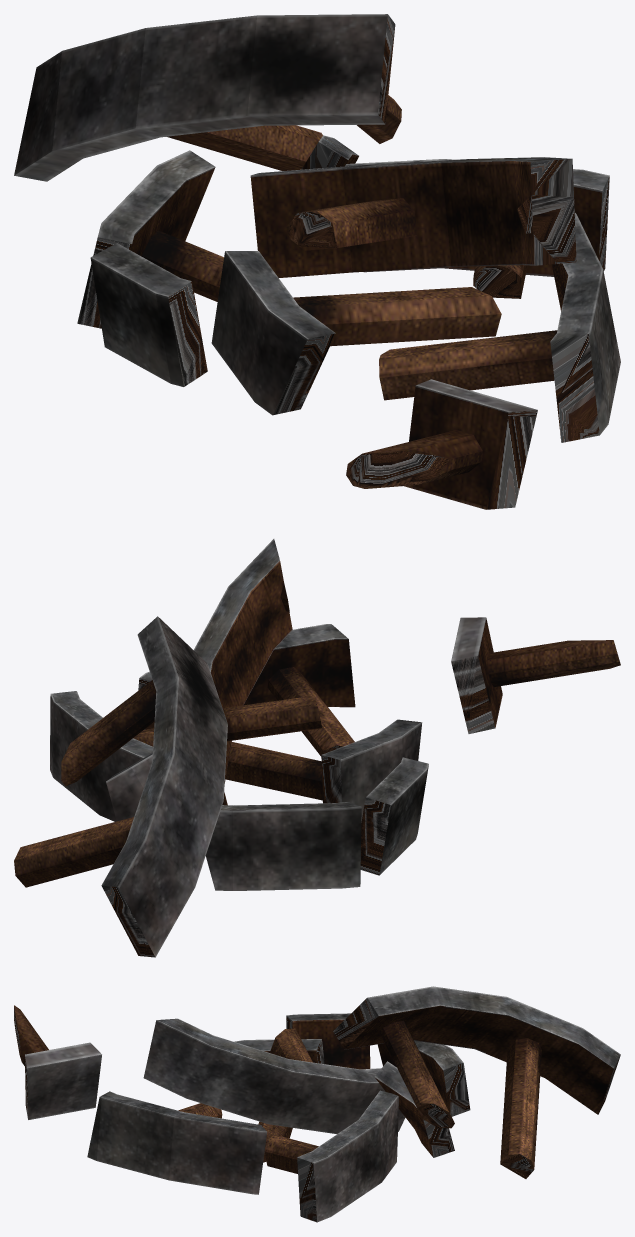
File: Rueda4.fbx
The picture shows the model from 3 angles, top to bottom: view 1: azimuth 30°, elevation 25°; view 2: azimuth 150°, elevation 25°; view 3: azimuth 270°, elevation 25°; orthographic projection. The views are drawn at different scales.
Parts seen in each view (by area): view 1: Wheel_Part_6, Wheel_Part_14, Wheel_Part_9, Wheel_Part_15, Wheel_Part_8, Wheel_Part_11, Wheel_Part_5, Wheel_Part_7, Wheel_Part_1; view 2: Wheel_Part_6, Wheel_Part_5, Wheel_Part_14, Wheel_Part_9, Wheel_Part_8, Wheel_Part_15, Wheel_Part_11, Wheel_Part_7, Wheel_Part_1; view 3: Wheel_Part_6, Wheel_Part_14, Wheel_Part_15, Wheel_Part_7, Wheel_Part_8, Wheel_Part_5, Wheel_Part_11, Wheel_Part_1, Wheel_Part_9.
Boxes of the visible parts, x1,y1,x2,y2 form: Wheel_Part_6: (14, 14, 401, 181); Wheel_Part_14: (250, 157, 576, 277); Wheel_Part_9: (211, 251, 501, 415); Wheel_Part_15: (379, 213, 620, 442); Wheel_Part_8: (346, 379, 537, 509); Wheel_Part_11: (90, 243, 207, 386); Wheel_Part_5: (77, 150, 223, 328); Wheel_Part_7: (345, 159, 609, 298); Wheel_Part_1: (301, 135, 358, 169); Wheel_Part_6: (14, 616, 227, 957); Wheel_Part_5: (205, 802, 361, 890); Wheel_Part_14: (194, 539, 321, 805); Wheel_Part_9: (225, 719, 422, 822); Wheel_Part_8: (451, 617, 620, 733); Wheel_Part_15: (138, 624, 355, 756); Wheel_Part_11: (360, 757, 428, 875); Wheel_Part_7: (50, 691, 154, 821); Wheel_Part_1: (106, 753, 152, 821); Wheel_Part_6: (333, 986, 620, 1178); Wheel_Part_14: (143, 1018, 405, 1133); Wheel_Part_15: (87, 1091, 266, 1194); Wheel_Part_7: (264, 1090, 398, 1222); Wheel_Part_8: (14, 1005, 101, 1119); Wheel_Part_5: (377, 1040, 470, 1116); Wheel_Part_11: (286, 1013, 370, 1069); Wheel_Part_1: (374, 1061, 454, 1157); Wheel_Part_9: (234, 1039, 324, 1162).
Size of the model in its own units: 106 by 55.48 by 177.
